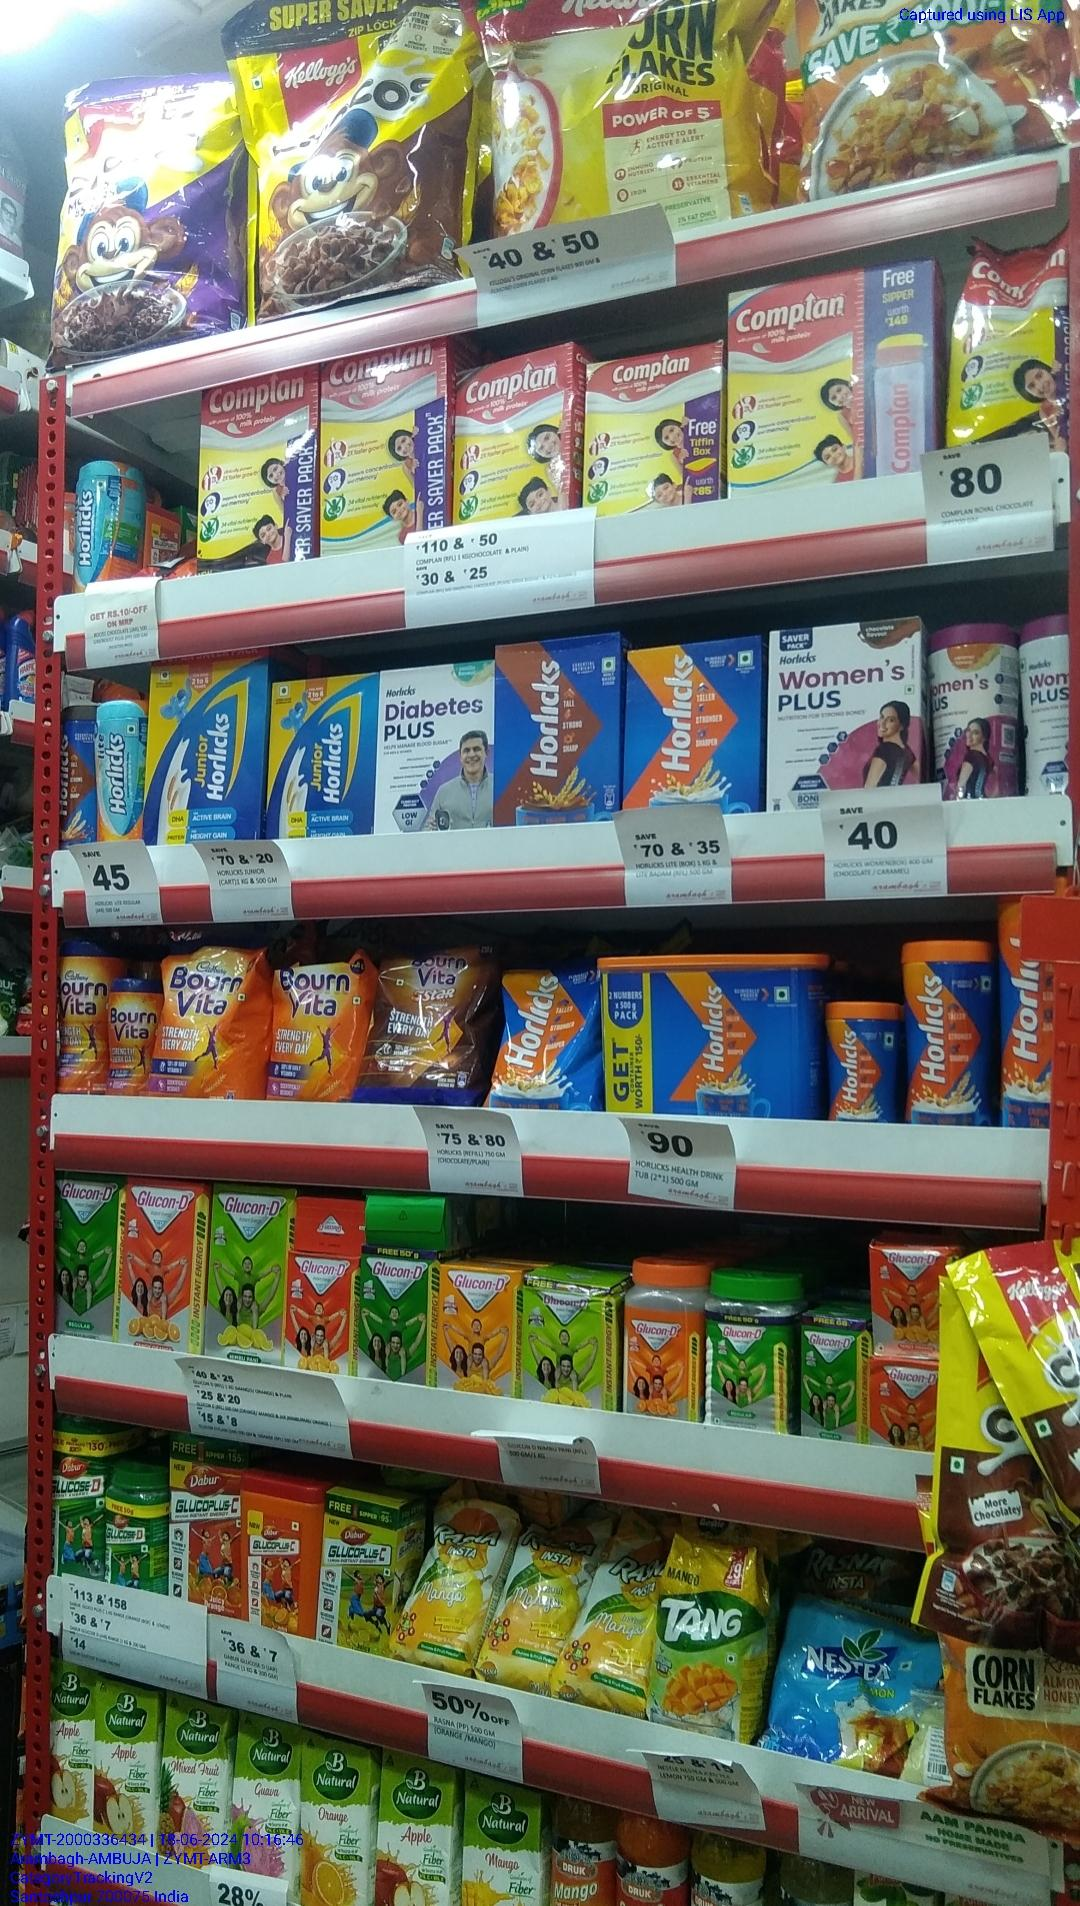BOURN_VITA_1_KG_JAR: (55, 936, 109, 1096)
BOURN_VITA_500_G_JAR: (110, 979, 156, 1094)
BOURN_VITA_750_G_POUCH: (158, 935, 267, 1098), (271, 941, 363, 1107)
BOURN_VITA_FIVE_STAR_MAGIC_750_G_POUCH: (365, 941, 486, 1105)
COMPLAN_CHOCOLATE_1_KG_PACK: (448, 353, 571, 529), (203, 377, 315, 566)
COMPLAN_KESAR_BADAM_500_GMS_PACK: (583, 348, 721, 505)
COMPLAN_RC_POUCH_700_GMS_12: (943, 224, 1070, 454)
HORLICKS_LITE_REGULAR_MALT_500_GM_JAR: (75, 458, 139, 584), (94, 698, 143, 844)
HORLICK_CHOCOLATE_500_G_JAR: (58, 710, 94, 848)
HORLICK_CHOCOLATE_500_G_PACK: (494, 635, 614, 819)
HORLICK_CLASSIC_MALT_500_G_JAR: (903, 941, 995, 1122)
HORLICK_CLASSIC_MALT_500_G_PACK: (624, 638, 758, 809)
HORLICK_CLASSIC_MALT_750_G_POUCH: (496, 957, 605, 1111)
HORLICK_MALT_1_KG_CONTAINER: (611, 953, 810, 1122)
